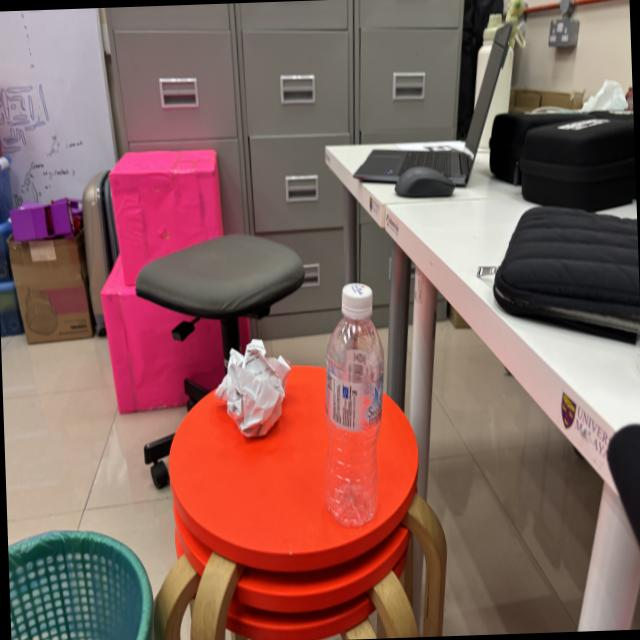crumpled_paper: (204, 324, 298, 451)
plastic_bottle: (314, 272, 393, 548)
